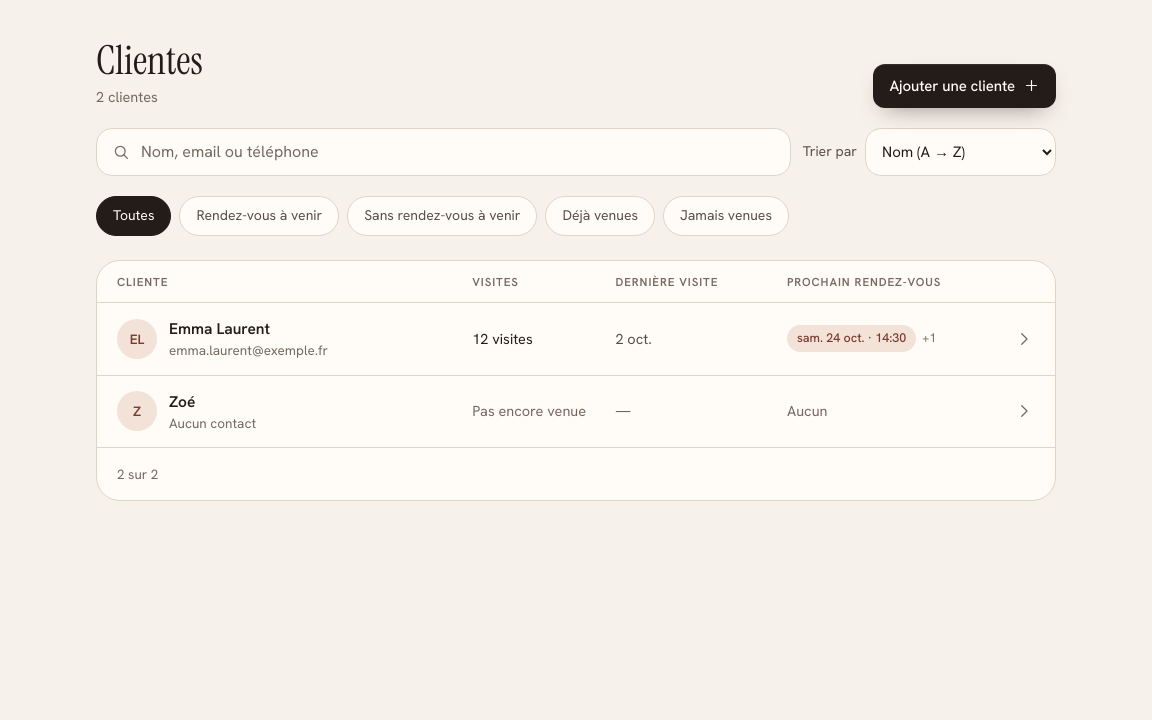
Test case: a failed refresh is never shown as a successful one › rows of the criteria on screen stay, marked out of date, when their refresh fails
The width and height of the screenshot is (1152, 720).
Click the radio button labelled "Déjà venues" at (600, 216), box [545,196,655,236]
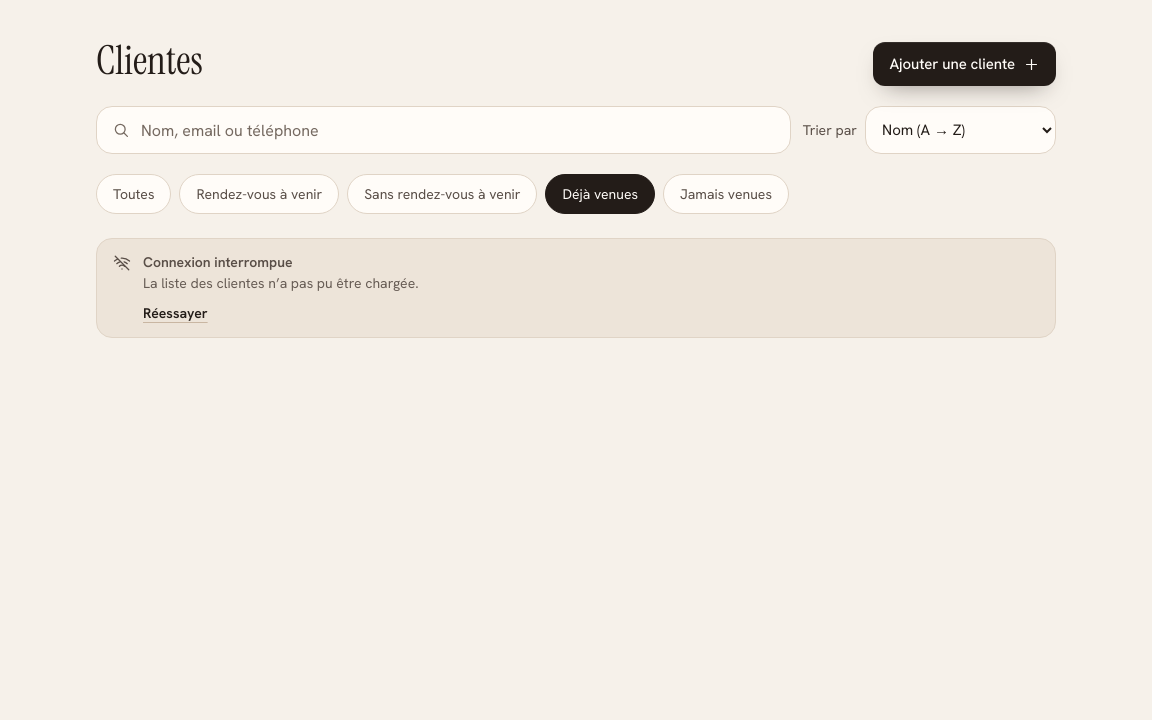
Now the message shows "La liste des clientes n’a pas pu être chargée", box [143,274,419,292]
Click the radio button labelled "Toutes" at (134, 194), box [96,174,172,214]
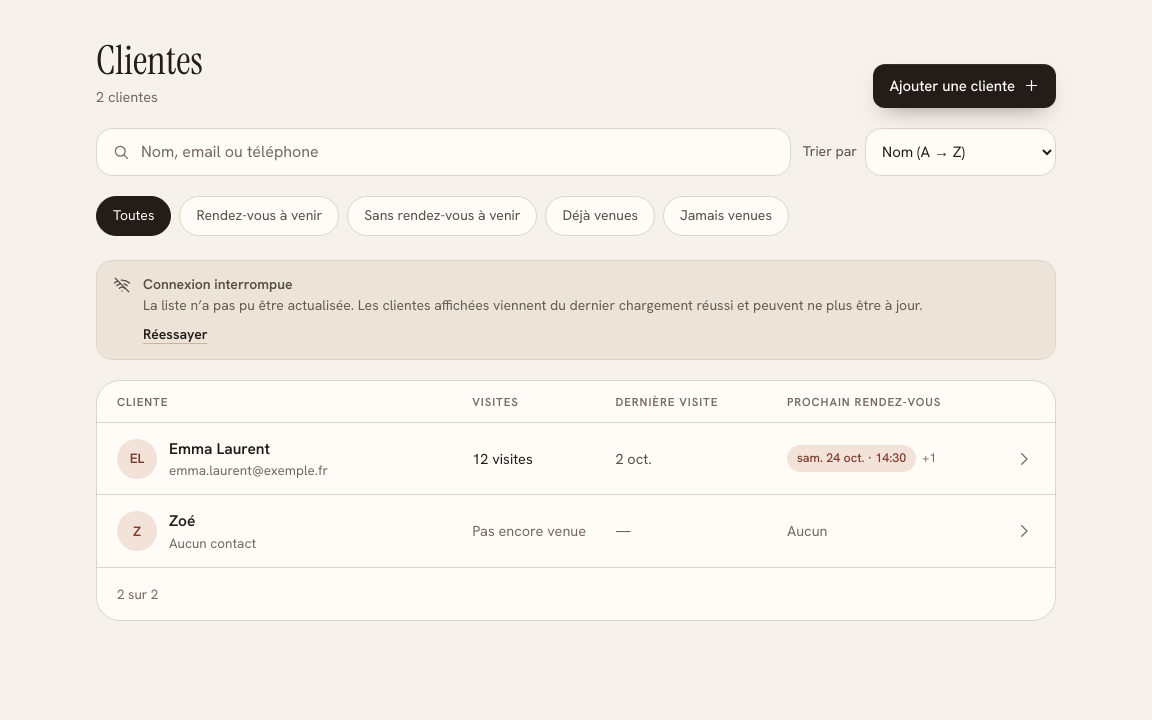
Click the button "Réessayer" at (175, 335), box [143,325,208,345]
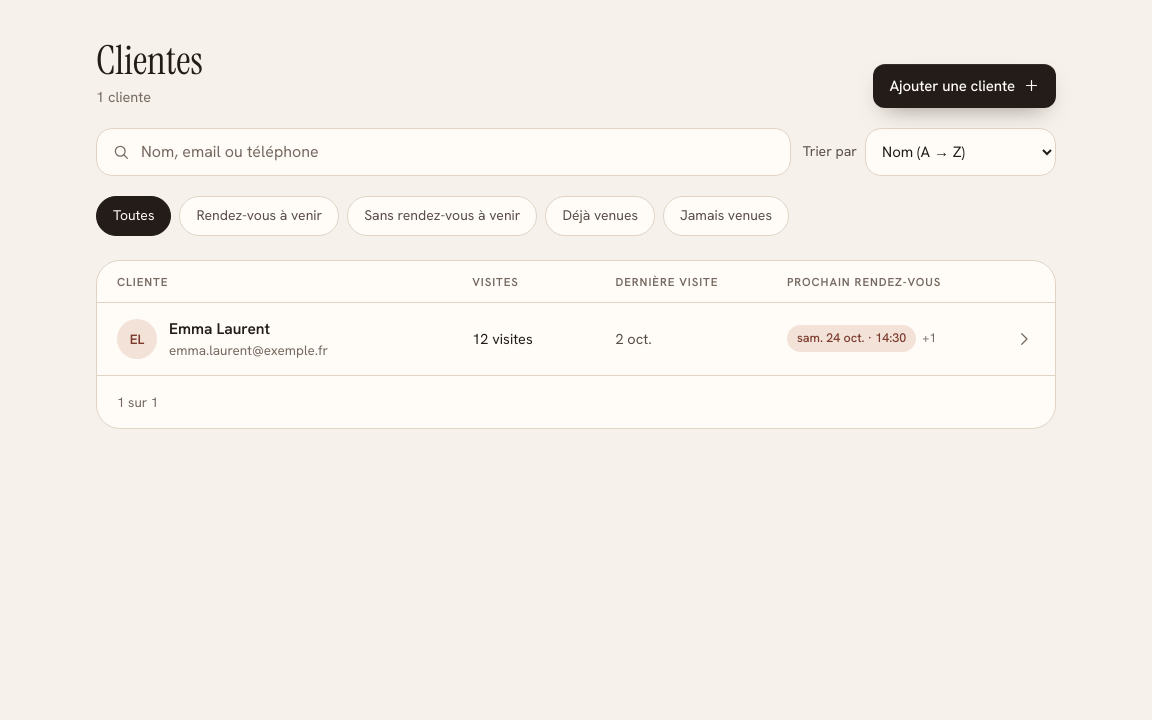
Now the message is gone
